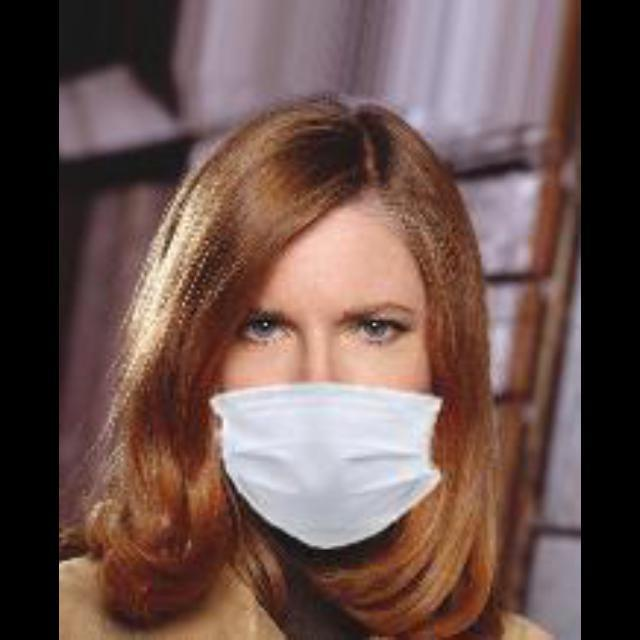suspicion: (152, 114, 486, 534)
